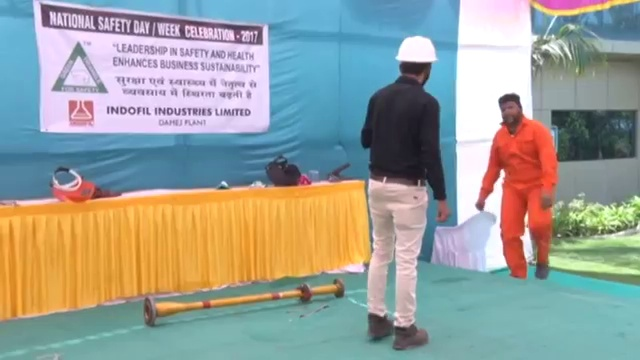helmet: (393, 34, 441, 66)
helmet_off: (497, 92, 525, 126)
helmet_on: (393, 34, 442, 86)
person: (358, 34, 450, 348), (479, 92, 557, 282)
